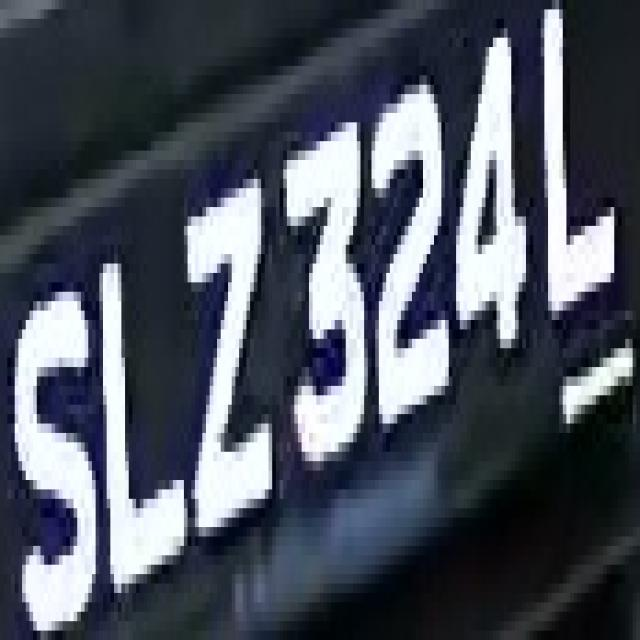2: (360, 75, 460, 461)
3: (265, 122, 368, 470)
4: (448, 38, 540, 414)
L: (96, 216, 191, 584), (537, 0, 625, 339)
S: (0, 4, 1, 10)
Z: (176, 170, 268, 584)
